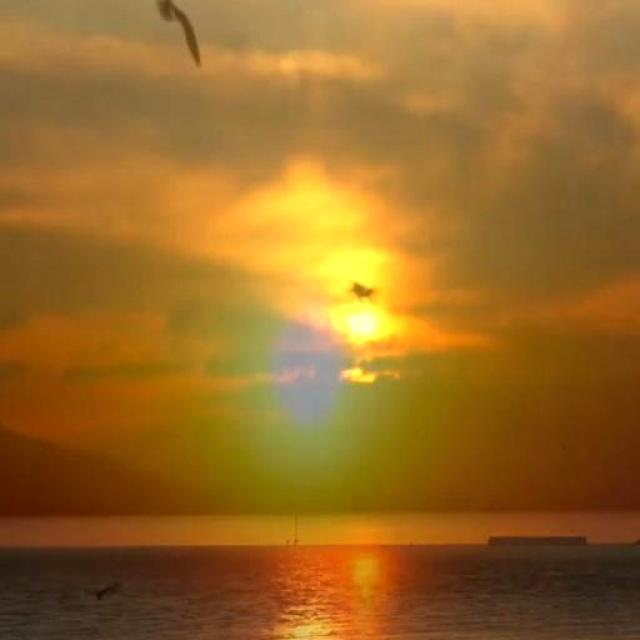airplane: (129, 0, 209, 69)
